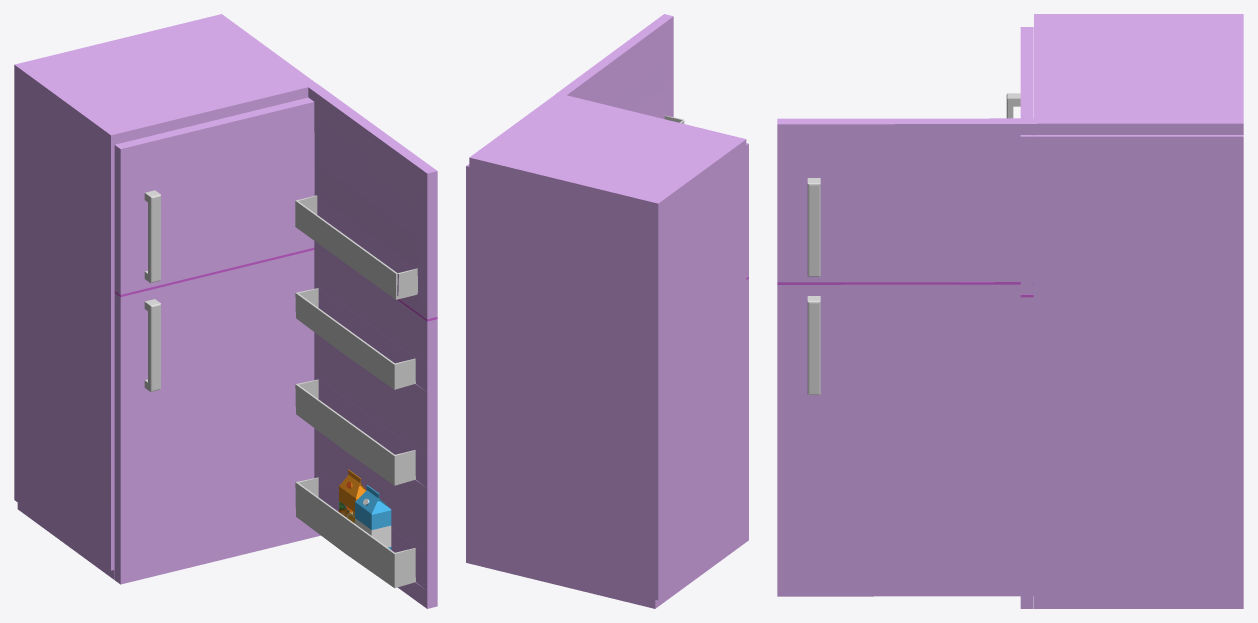
File: refrigerator.fbx
3 renders of one model, left to right at view 1: azimuth 30°, elevation 25°; view 2: azimuth 150°, elevation 25°; view 3: azimuth 270°, elevation 25°, orthographic. The views are drawn at different scales.
Parts seen in each view (by area): view 1: body.001, door below, door below.001, upper door, upper door.001, Cylinder, body, Cylinder.002; view 2: body.001, body, upper door.001, door below, upper door; view 3: body, door below.001, upper door.001, body.001, door below, upper door.
Boxes of the visible parts, x1,y1,x2,y2 form: body.001: (14, 14, 317, 570); door below: (114, 248, 320, 584); door below.001: (295, 241, 437, 608); upper door: (114, 97, 314, 294); upper door.001: (295, 83, 437, 319); Cylinder: (355, 485, 391, 549); body: (17, 98, 302, 579); Cylinder.002: (339, 469, 366, 523); body.001: (469, 93, 746, 600); body: (466, 164, 743, 608); upper door.001: (556, 14, 684, 123); door below: (743, 276, 748, 543); upper door: (746, 143, 748, 277); body: (1034, 135, 1243, 608); door below.001: (777, 282, 1033, 596); upper door.001: (777, 118, 1037, 282); body.001: (1034, 14, 1243, 134); door below: (1020, 294, 1033, 608); upper door: (1006, 27, 1033, 294).
Bounding box in the file's own units: 573 × 1112 × 972.
